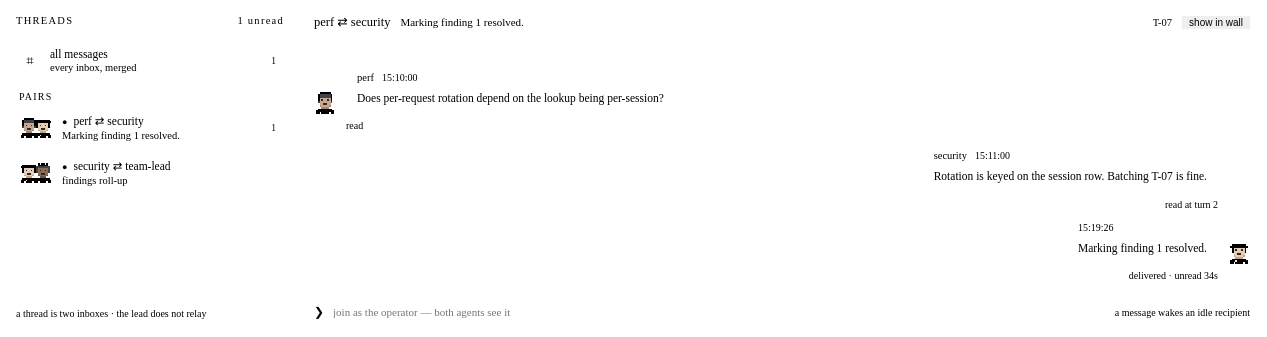
Test case: Comms — the operator joins the thread › writes into both inboxes, because there is no relay to write into
Type "both of you: land it" into the text box with test id "composer-input".
click(711, 313); type("both of you: land it")  # box [333,305,1090,320]
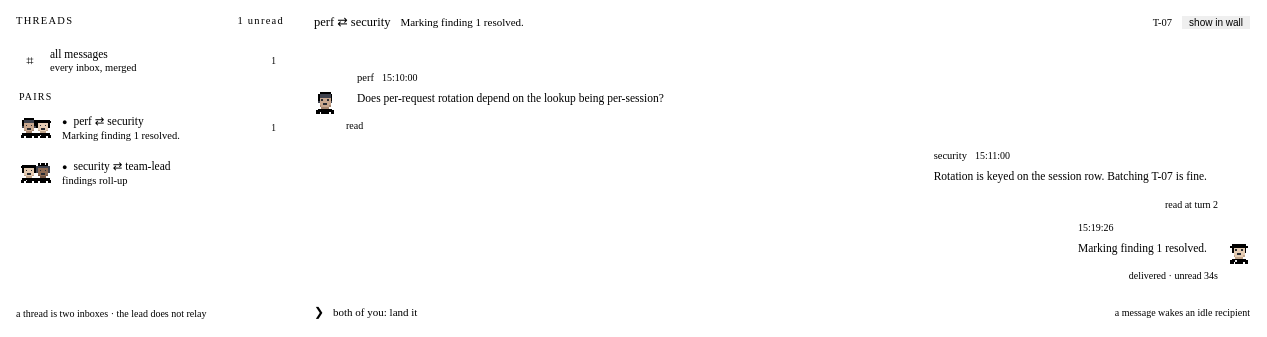
Press Enter in the text box with test id "composer-input", box [333,305,1106,320]
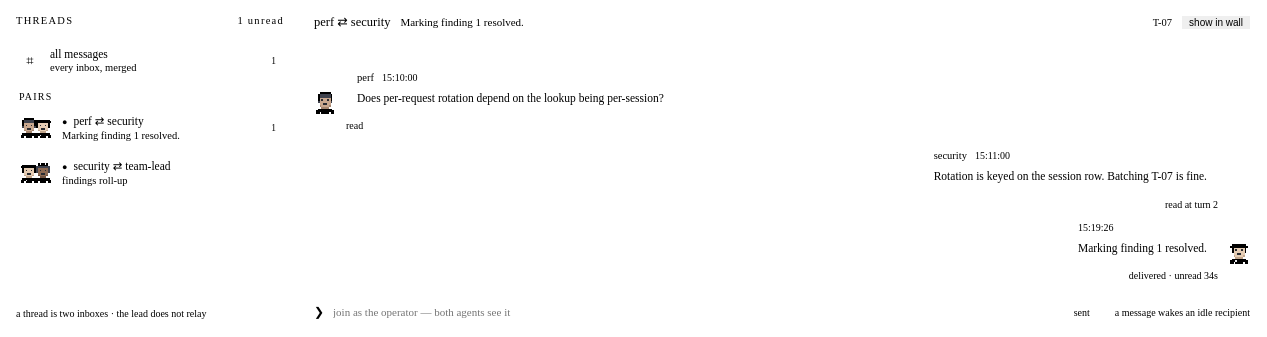
Expected: the text with test id "composer-ack" reads "sent", [1074,307,1090,318]
